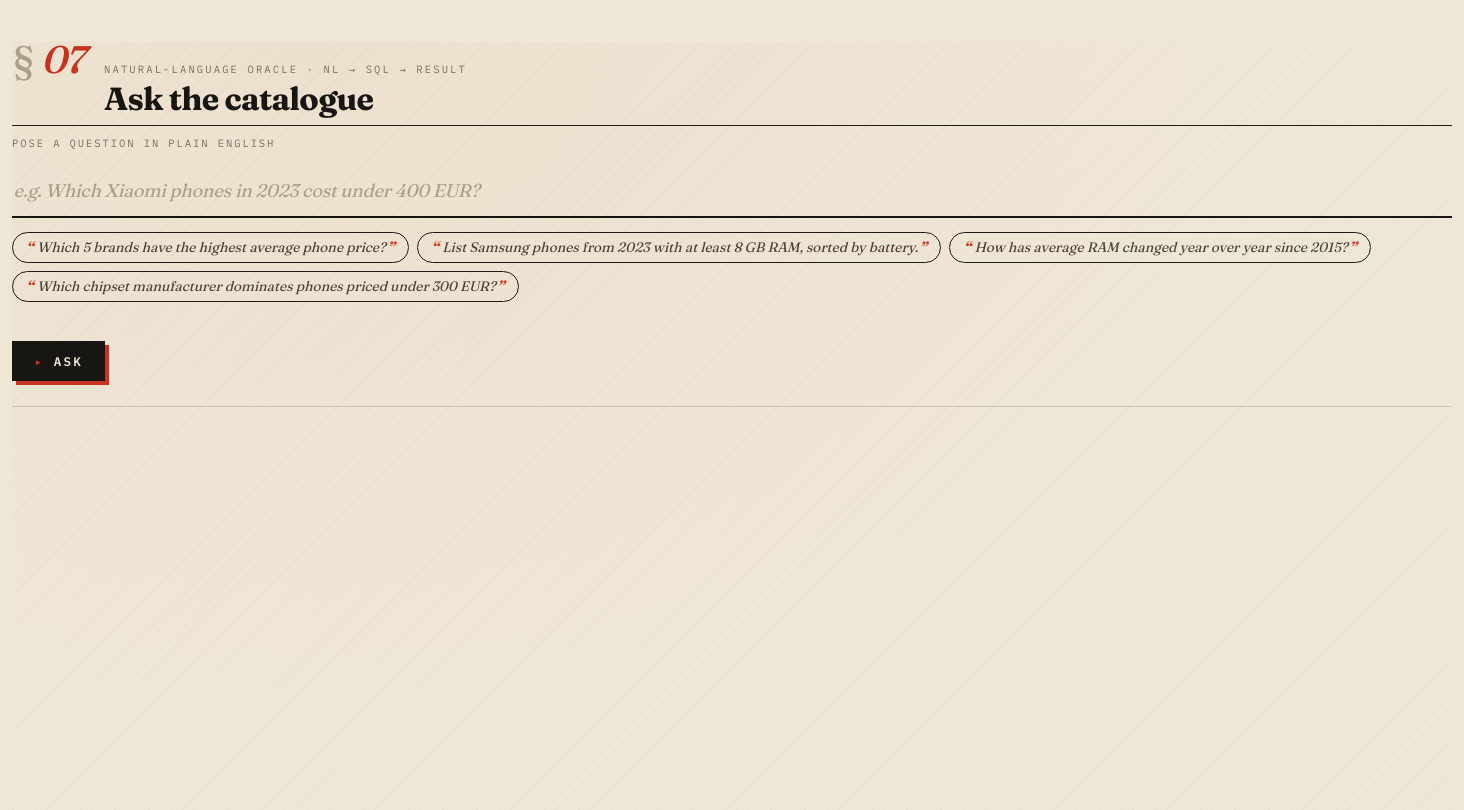
Test: AskView › humanises column headers in the result table
The width and height of the screenshot is (1464, 810).
Type "q" into the field with placeholder "e.g. Which Xiaomi phones in 2023 cost under 400 EUR?" at [732, 192], box [12,166,1452,218]
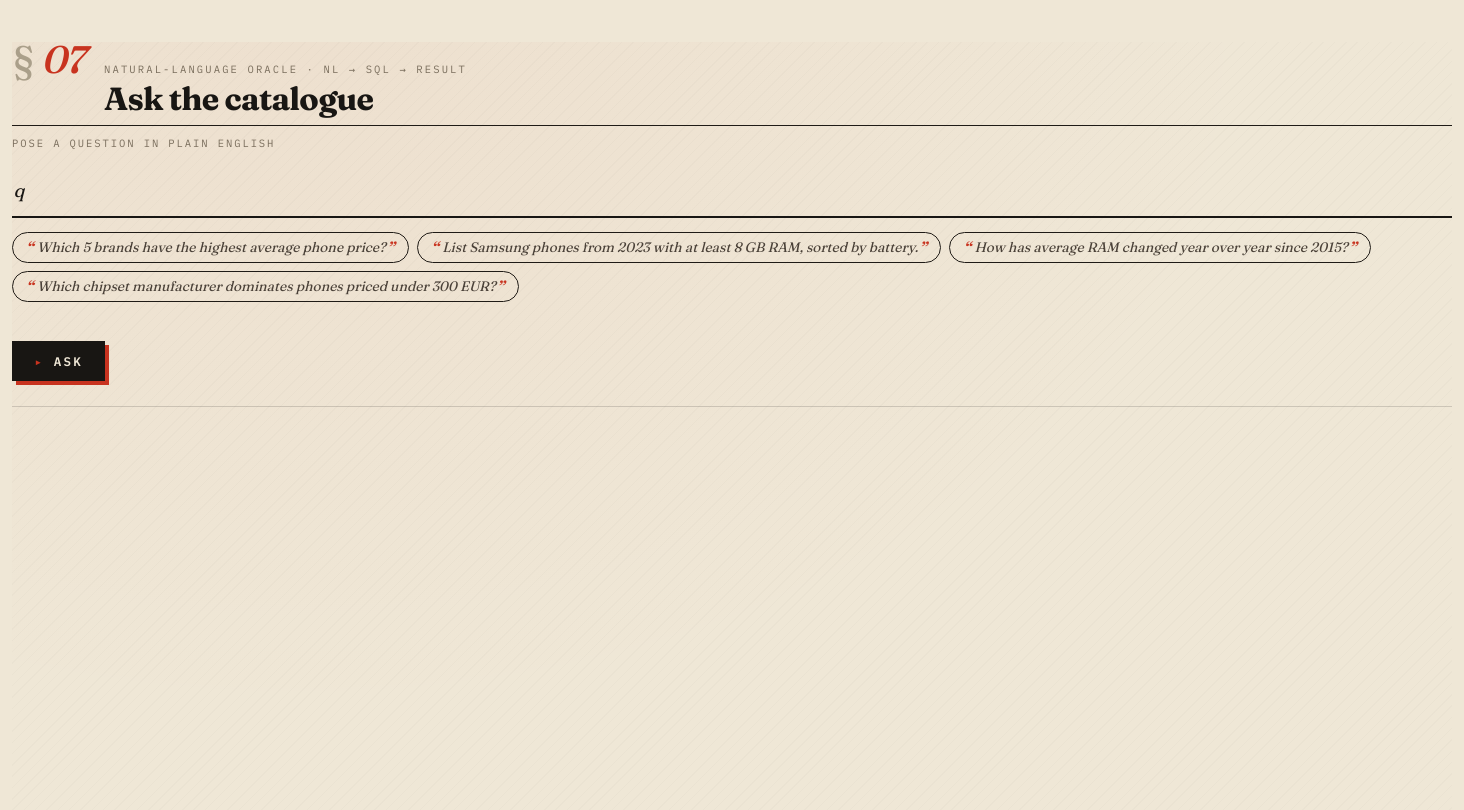
Click the button "Ask" at [59, 361], box [12,341,105,381]
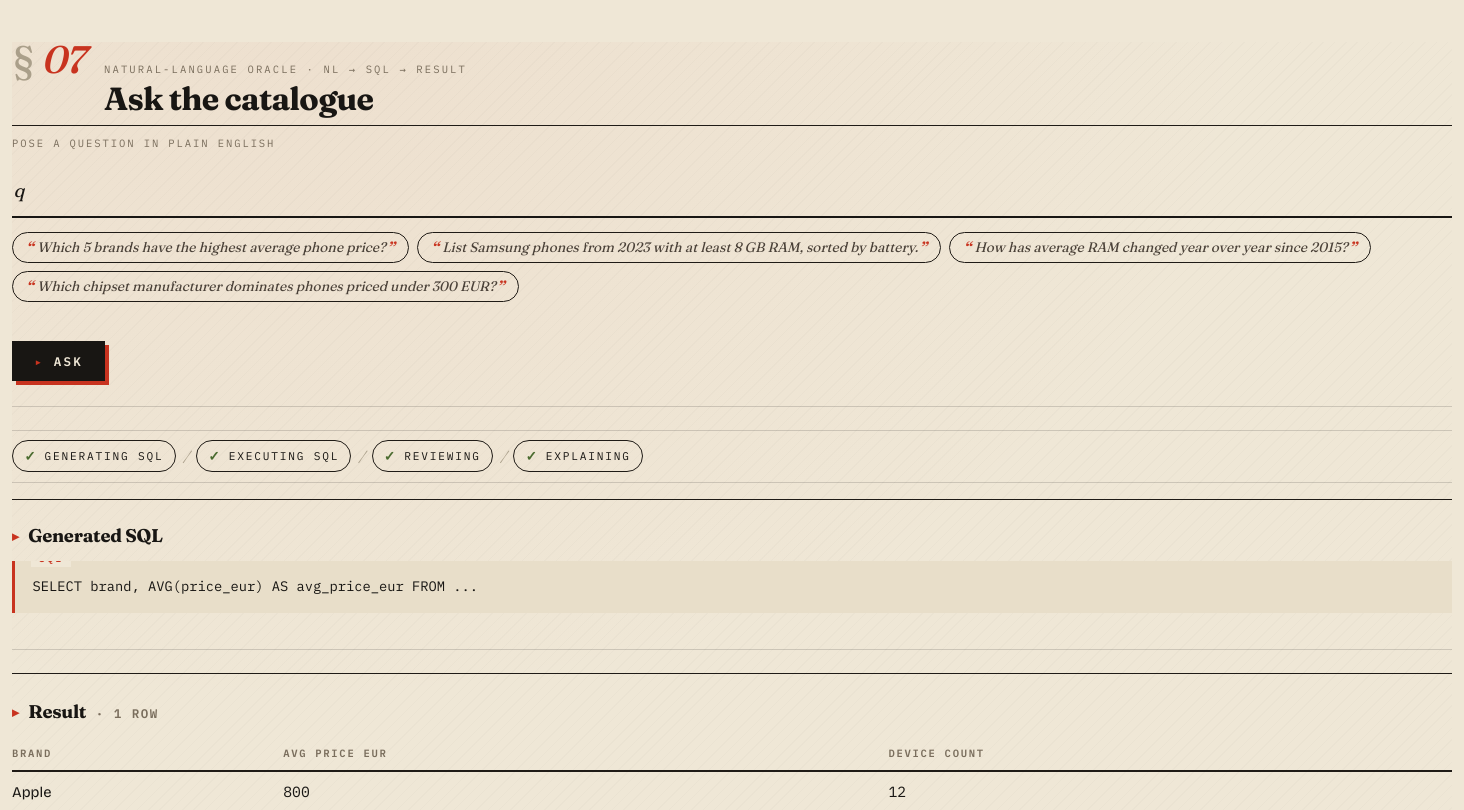
Check: the column heading "Brand" is shown, box [12,736,283,771]
Check: the column heading "Avg Price EUR" is shown, box [283,736,888,771]
Check: the column heading "Device Count" is shown, box [888,736,1452,771]
